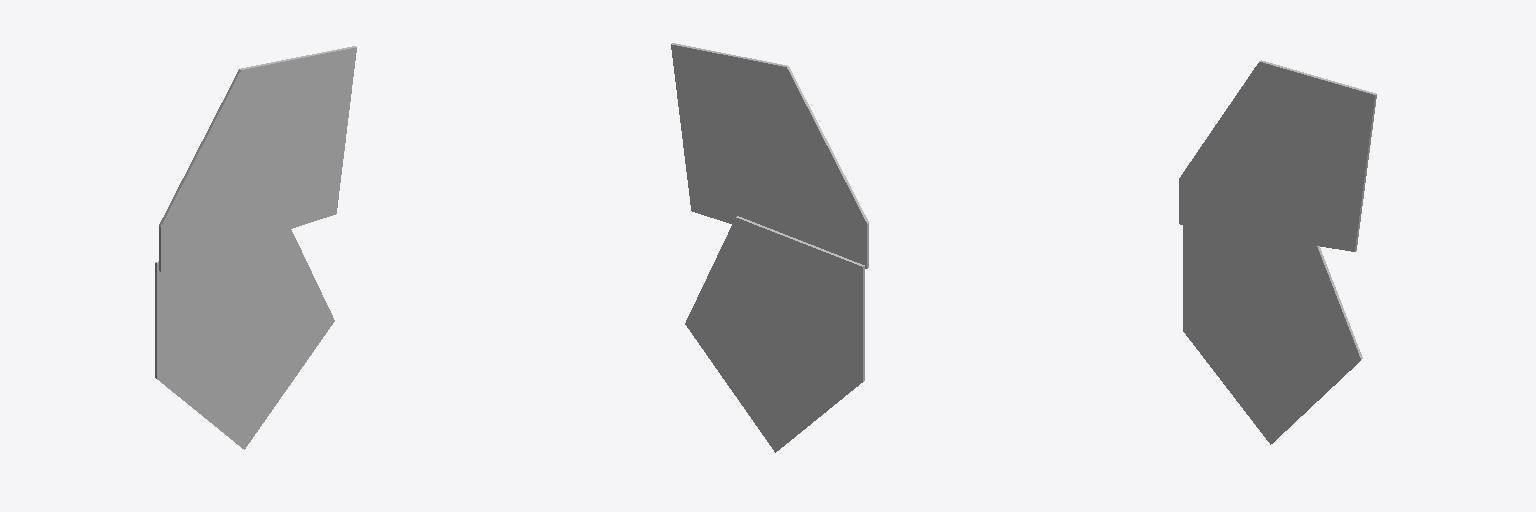
File: wingL.obj
The picture shows the model from 3 angles: view 1: azimuth 30°, elevation 25°; view 2: azimuth 150°, elevation 25°; view 3: azimuth 330°, elevation 25°; orthographic projection.
Parts seen in each view (by area): view 1: 平面; view 2: 平面; view 3: 平面.
Boxes of the visible parts, box(x1,y1,x2,y2) form: 平面: box(155, 46, 356, 449); 平面: box(671, 43, 868, 452); 平面: box(1179, 60, 1376, 444).
Size of the model in its own units: 0.6014 by 1.12 by 0.0314.